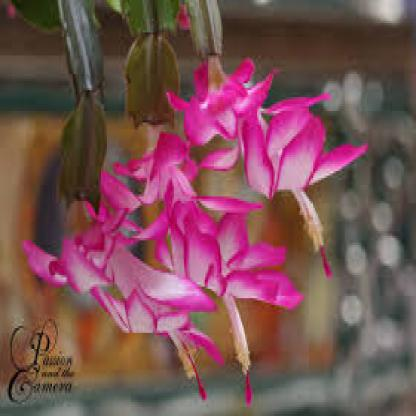Aglonema: (68, 71, 286, 330)
